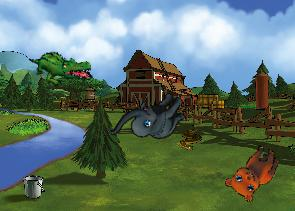bear: (221, 136, 283, 206)
crocodile: (28, 44, 94, 91)
elephant: (107, 74, 192, 163)
